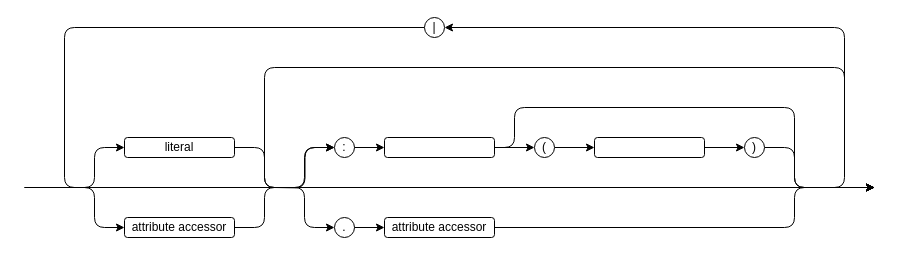
The diagram is 900 pixels wide and 255 high, and some of its shapes have lost their labels. The box of each missing label's shape, as (x1, y1, x2, y2) in pixels:
parameters: (594, 136, 704, 158)
transformation: (384, 136, 494, 158)
